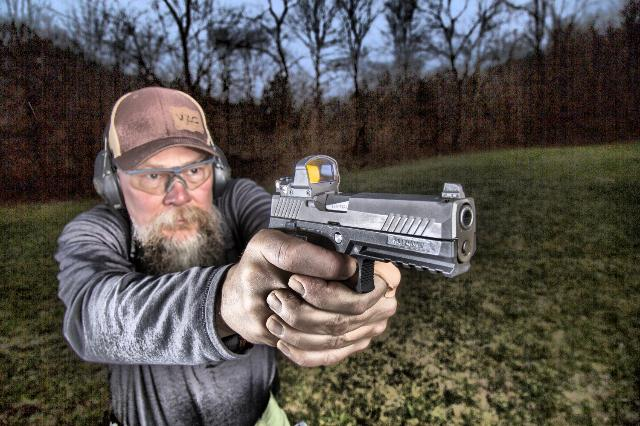pistol: (239, 145, 489, 301)
